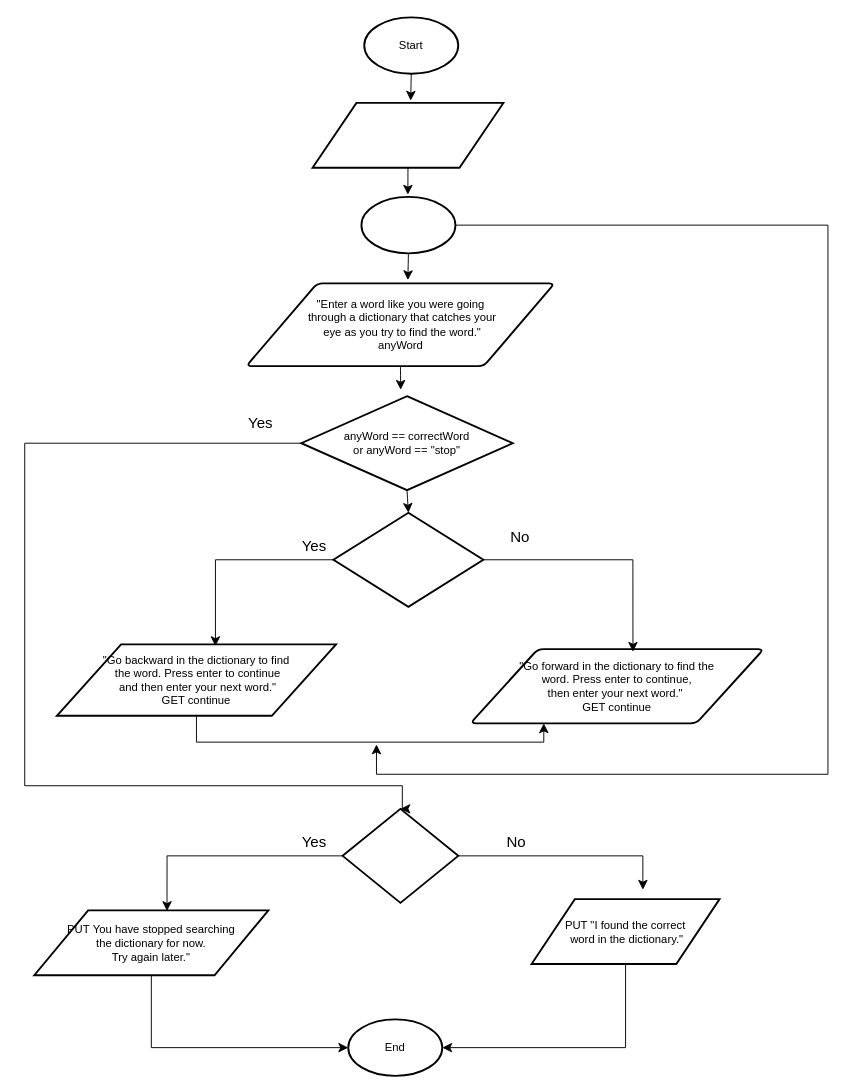
The diagram is 854 pixels wide and 1092 high, and some of its shapes have lost their labels. Each missing label, with the centre of its shape:
"Enter any word to look up in the dictionary" GET correctWord: (x=407, y=135)
anyWord == "stop": (x=400, y=855)
anyWord > correctWord: (x=408, y=559)
Loop: (x=408, y=225)
